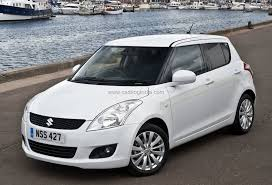Swift: (20, 25, 255, 178)
